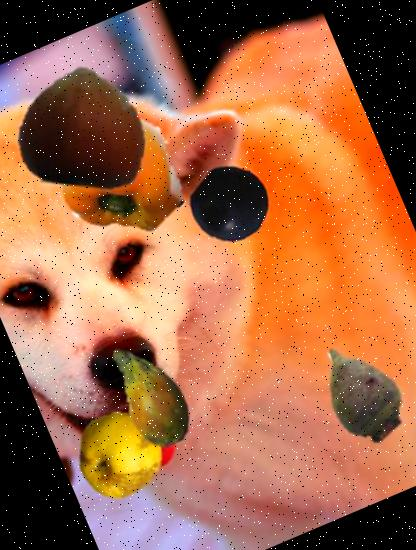Apple: (61, 396, 178, 514)
Beetroot: (285, 320, 416, 464)
Cactus: (78, 321, 224, 467)
Grape: (180, 154, 281, 254)
Nut: (0, 43, 167, 211)
Pepper: (43, 98, 204, 259)
